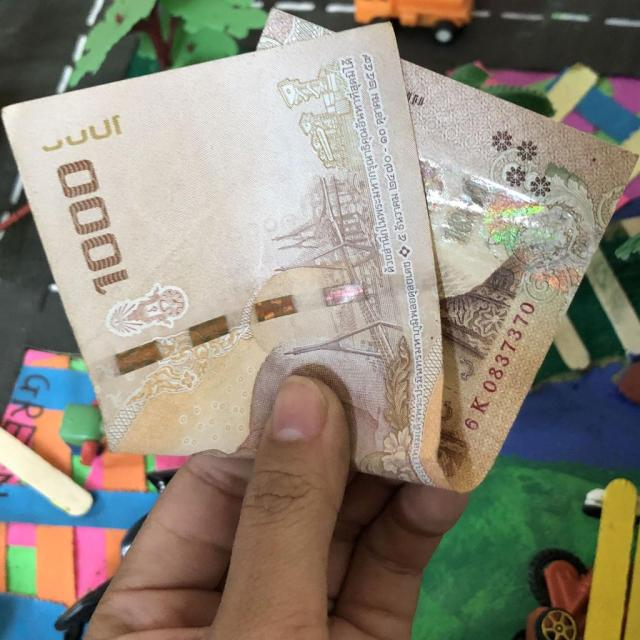THAI1000: (0, 10, 639, 496)
